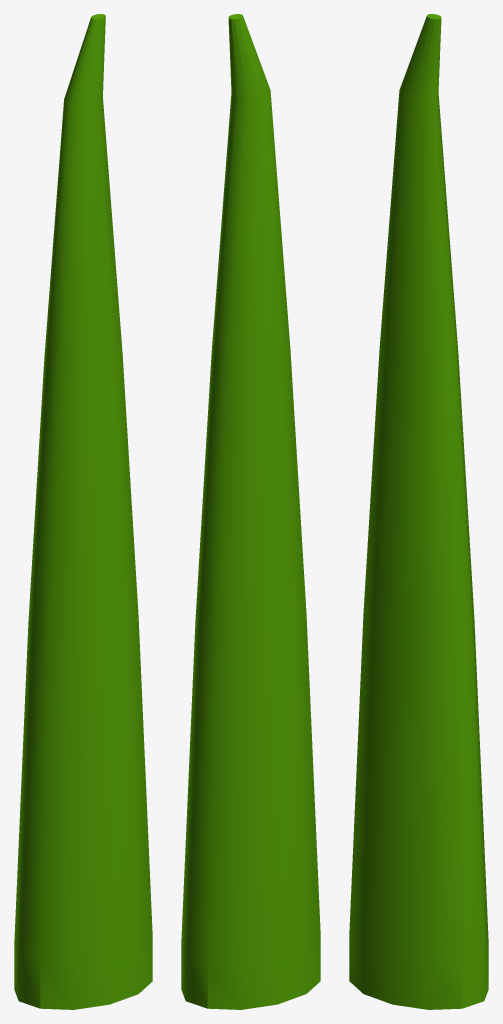
The model's file is Corn1.fbx.
The picture shows the model from 3 angles, left to right: view 1: azimuth 30°, elevation 25°; view 2: azimuth 210°, elevation 25°; view 3: azimuth 330°, elevation 25°; orthographic projection.
Parts seen in each view (by area): view 1: Cylinder; view 2: Cylinder; view 3: Cylinder.
Part boxes in pixels (<box>): Cylinder: <box>14,14,152,1009</box>; Cylinder: <box>181,14,320,1009</box>; Cylinder: <box>349,14,488,1009</box>.
Bounding box in the file's own units: 1.81 × 12.88 × 1.27.
